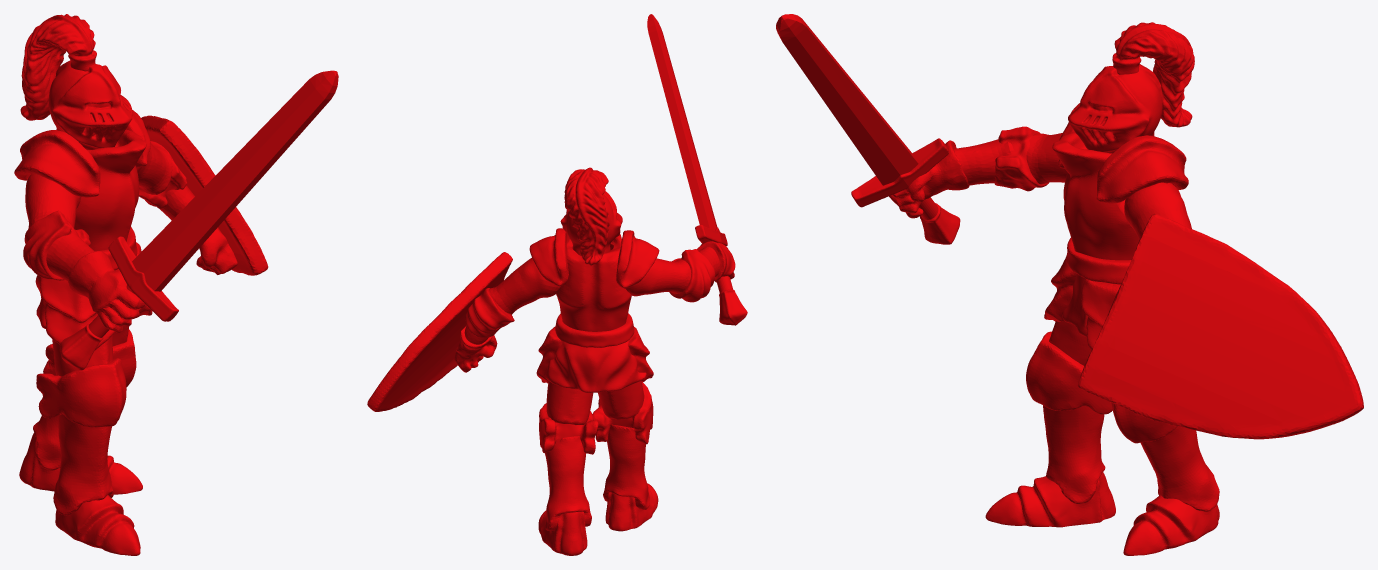
File: guardiaIncorrecto.glb
3 renders of one model, left to right at view 1: azimuth 30°, elevation 25°; view 2: azimuth 150°, elevation 25°; view 3: azimuth 270°, elevation 25°, orthographic. The views are drawn at different scales.
Parts seen in each view (by area): view 1: body_v3; view 2: body_v3; view 3: body_v3.
Part boxes in pixels (x1,y1,x2,y2): body_v3: (14,14,338,555); body_v3: (367,14,747,555); body_v3: (776,14,1363,555).
Size of the model in its own units: 23.36 by 39.35 by 37.82.
